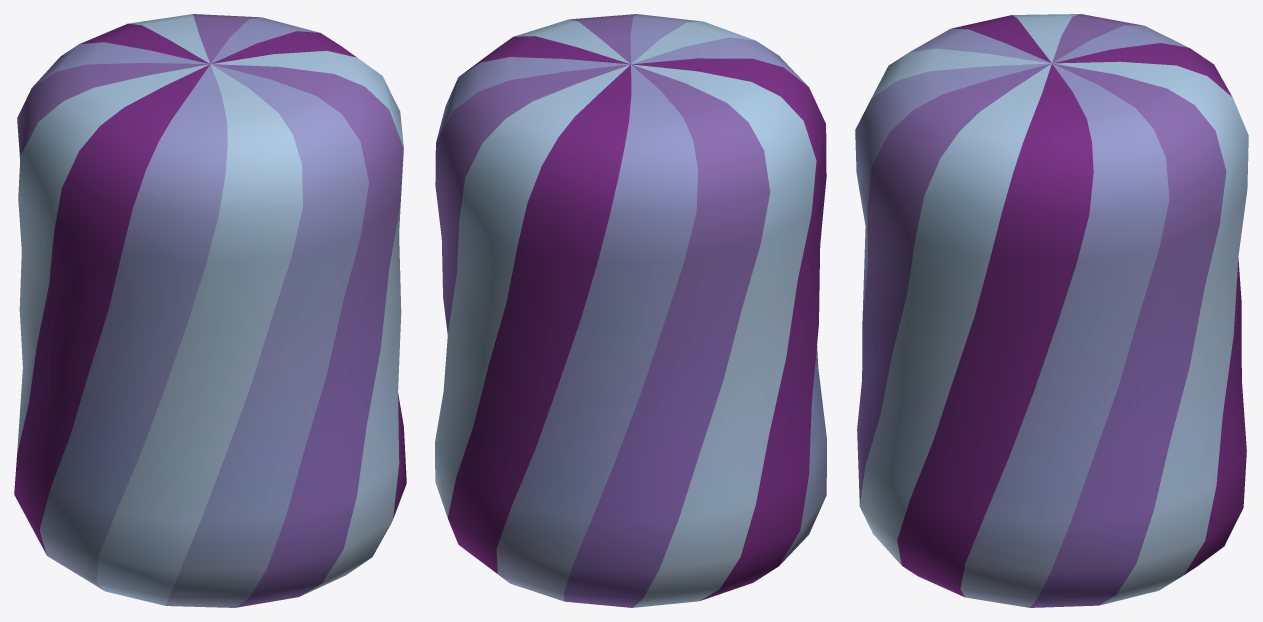
The model's file is OBS0110247.fbx.
The picture shows the model from 3 angles, left to right: view 1: azimuth 30°, elevation 25°; view 2: azimuth 150°, elevation 25°; view 3: azimuth 270°, elevation 25°; orthographic projection.
Parts seen in each view (by area): view 1: smOBS0110247; view 2: smOBS0110247; view 3: smOBS0110247.
Part boxes in pixels (x1,y1,x2,y2): smOBS0110247: [14, 14, 406, 607]; smOBS0110247: [435, 14, 826, 607]; smOBS0110247: [855, 14, 1248, 607].
Size of the model in its own units: 65.61 by 90.91 by 65.57.
Materials: 1 (1 with a texture image).
